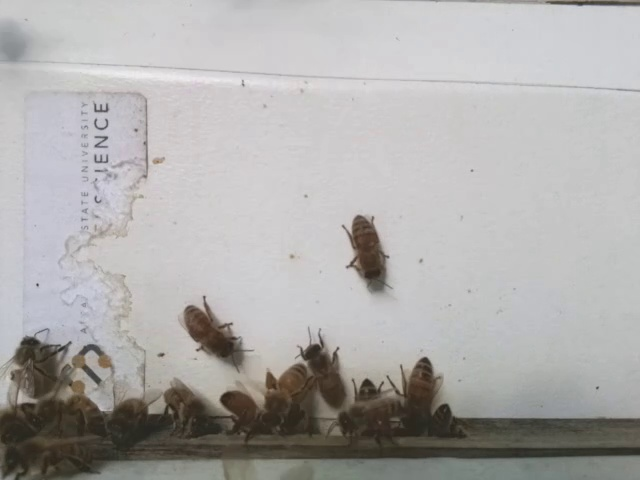bee: (1, 327, 79, 407), (172, 290, 254, 363), (333, 206, 399, 293), (387, 347, 449, 437), (292, 320, 355, 407), (99, 371, 167, 446), (1, 434, 108, 480), (256, 360, 319, 429), (160, 378, 219, 445), (329, 395, 405, 445), (213, 383, 270, 442), (39, 392, 110, 437)
